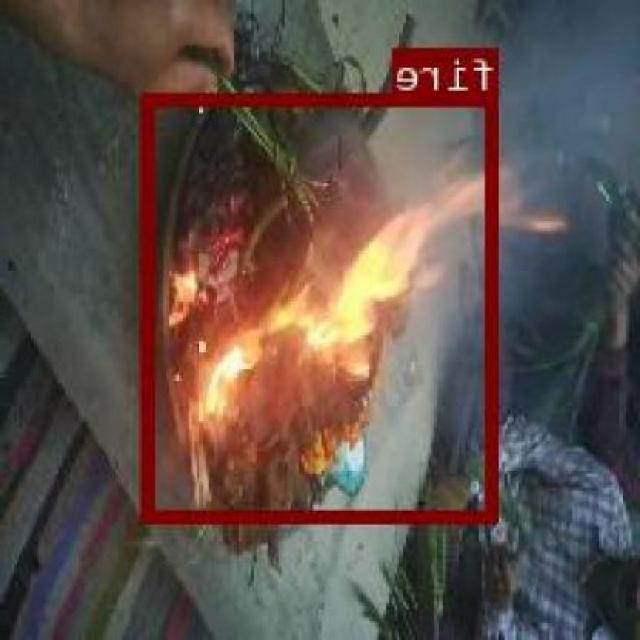Fire: (145, 92, 500, 522)
